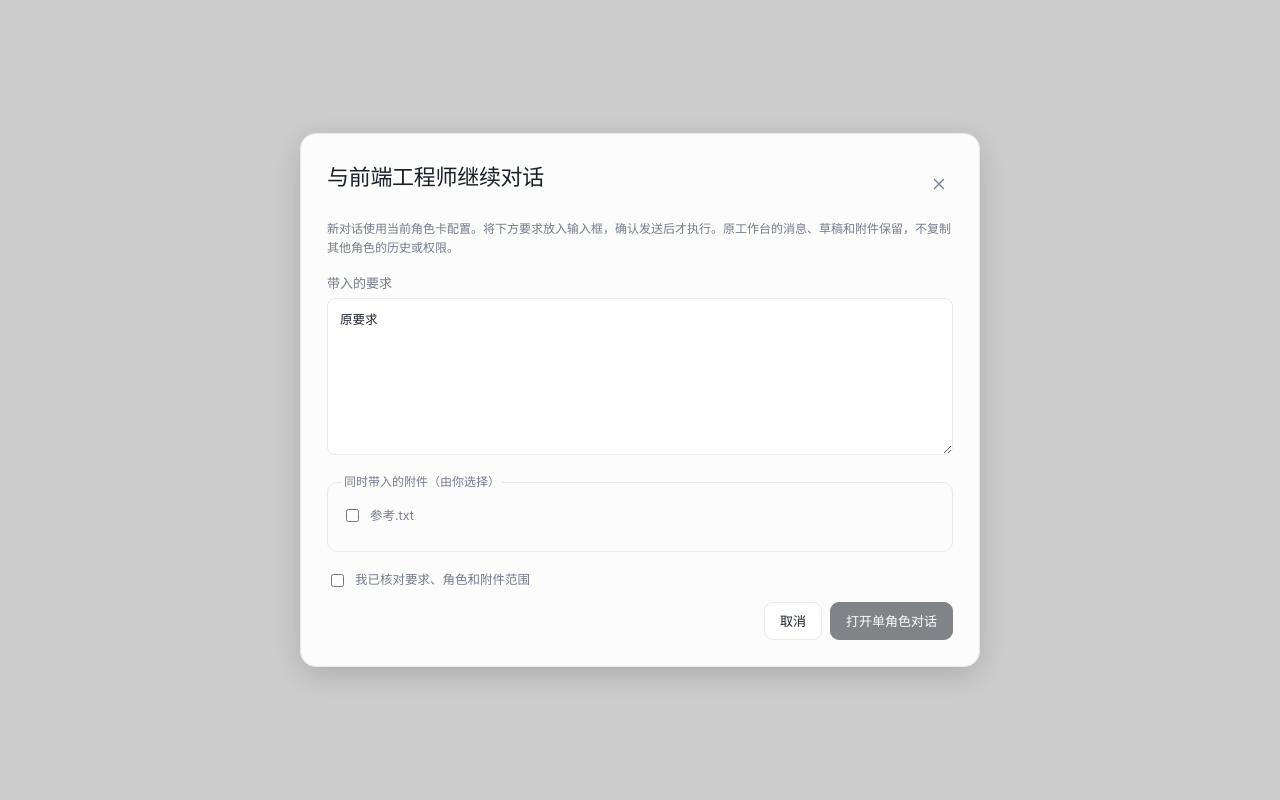
Scenario: 附件读取失败不创建空会话，保留弹窗和输入可重试
Click the checkbox labelled "参考.txt": (352, 516) [346,509,359,522]
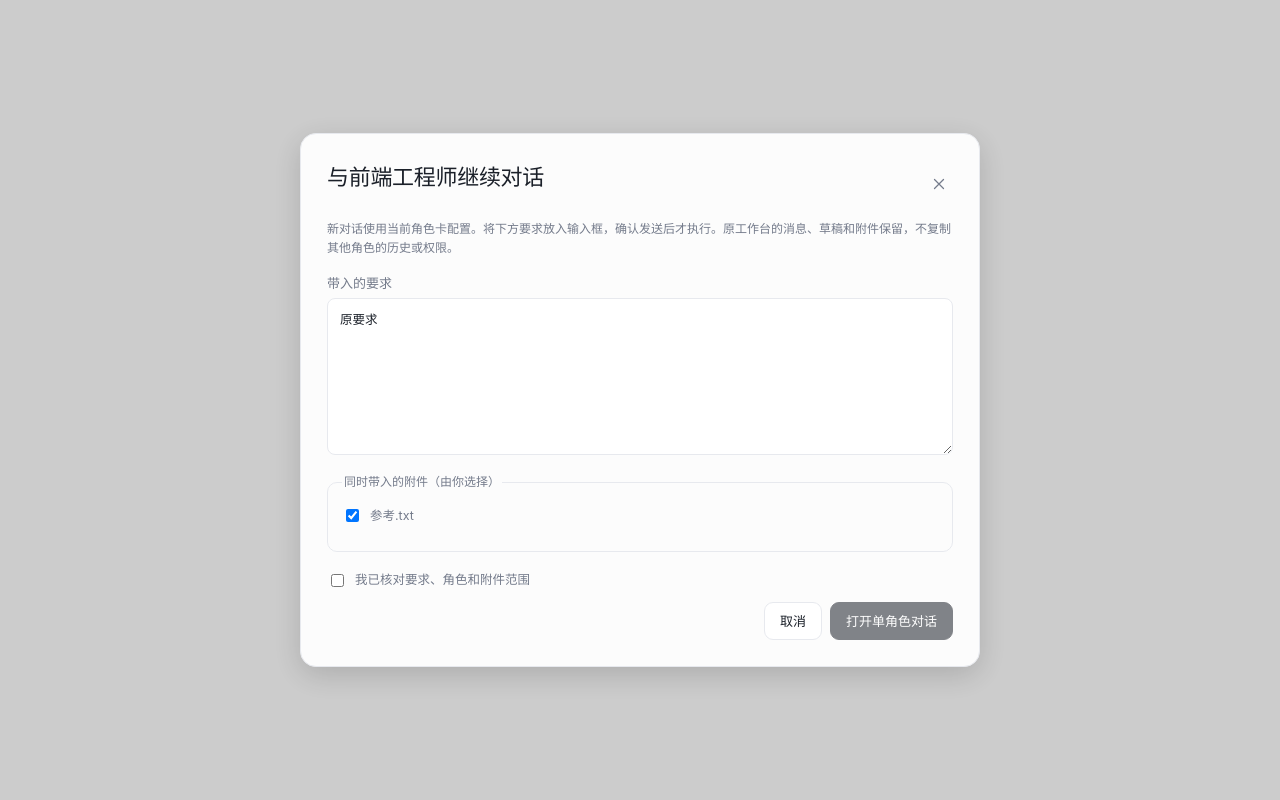
Click the checkbox labelled "我已核对要求、角色和附件范围": (338, 580) [331,574,344,587]
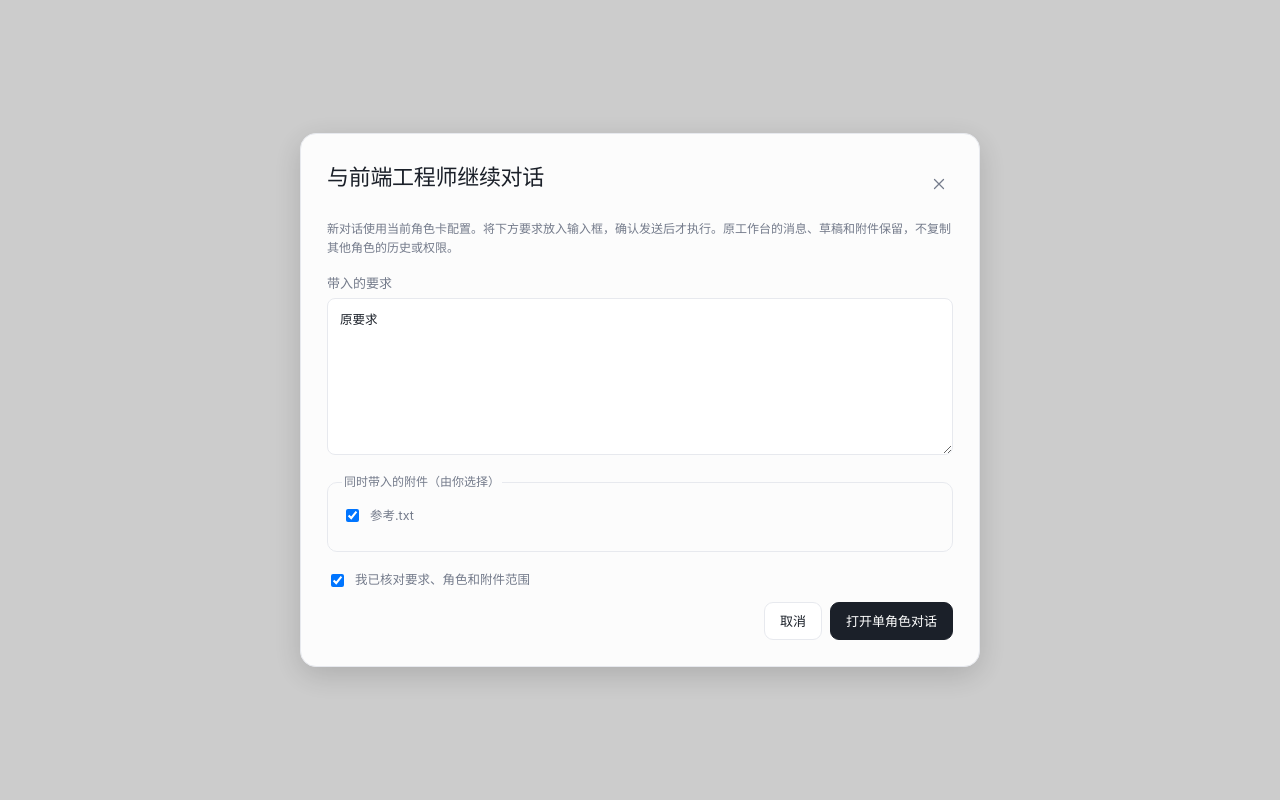
Click the button "打开单角色对话": (892, 621) [830,602,953,640]
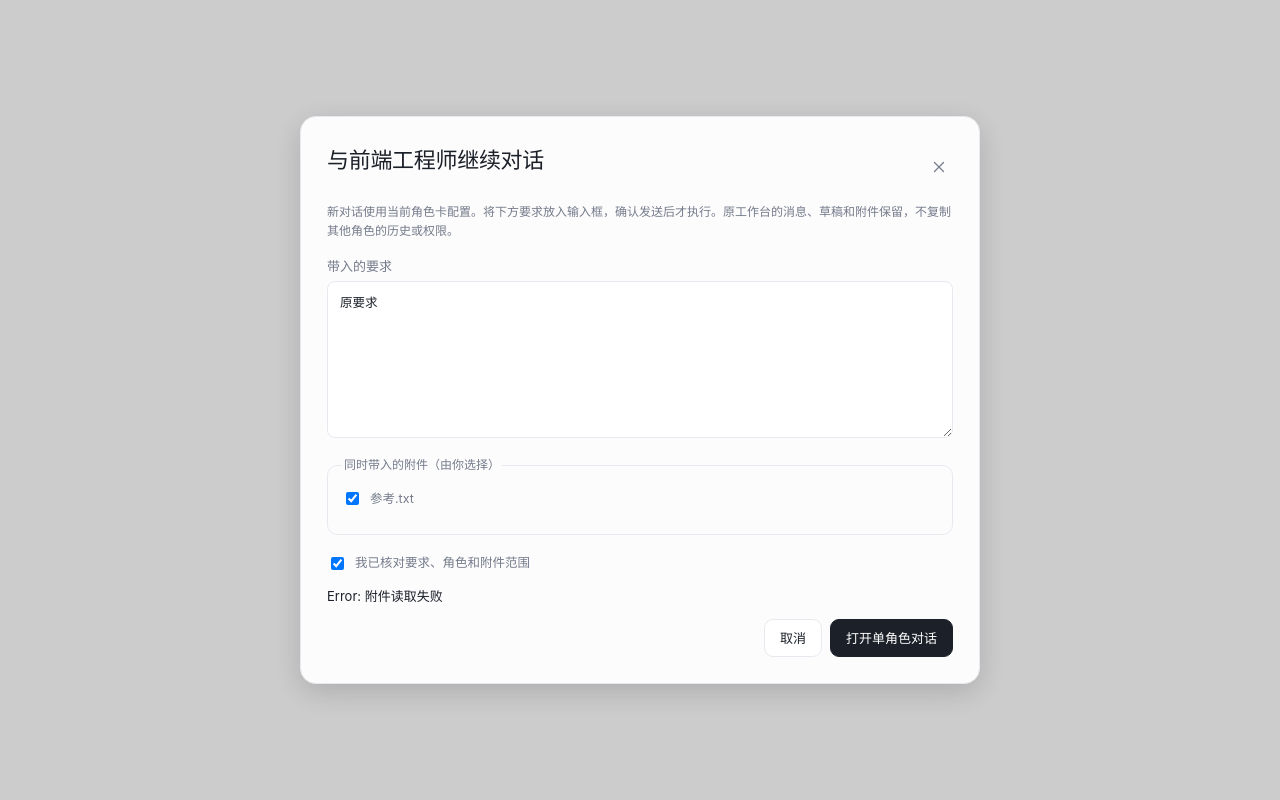
Check: the text box labelled "带入的要求" holds "原要求", box [327,281,953,438]
Check: the message "Error: 附件读取失败" is shown, box [327,588,443,604]
